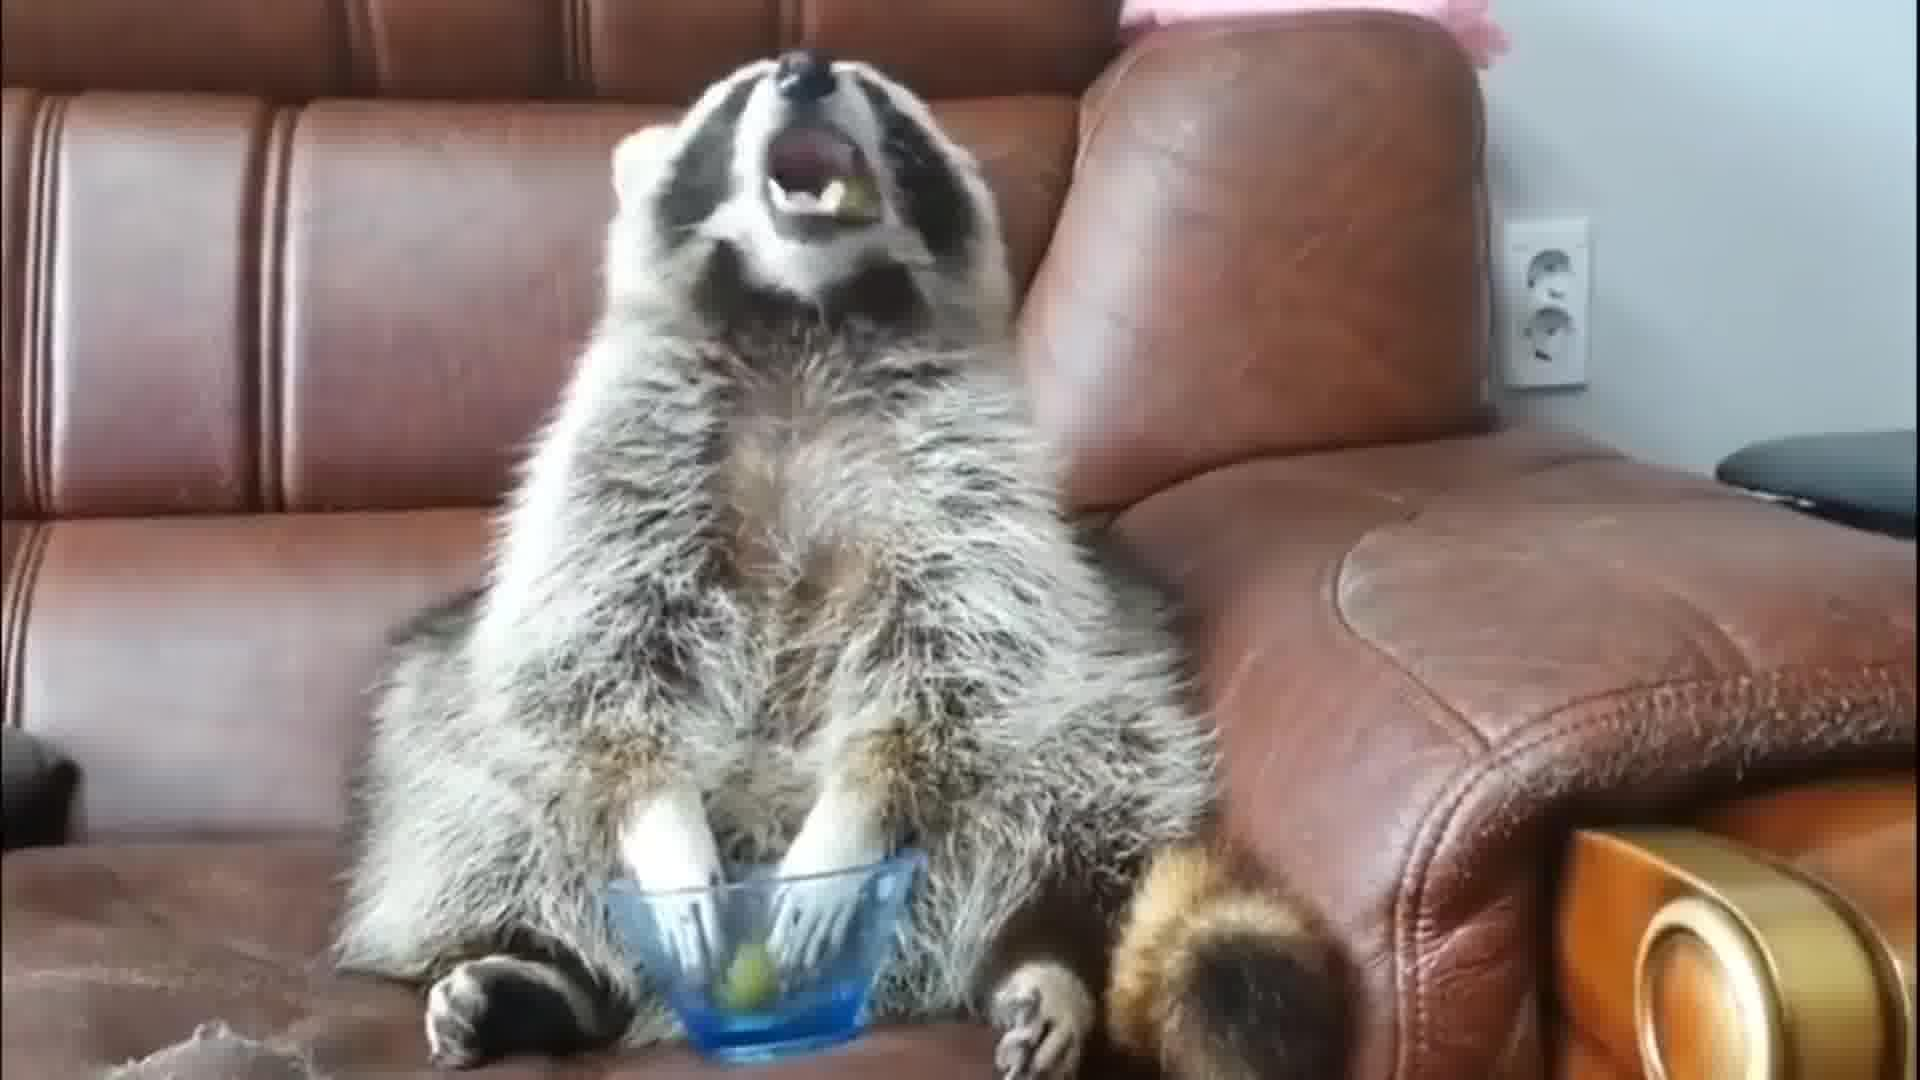raccoon: (331, 47, 1357, 1080)
